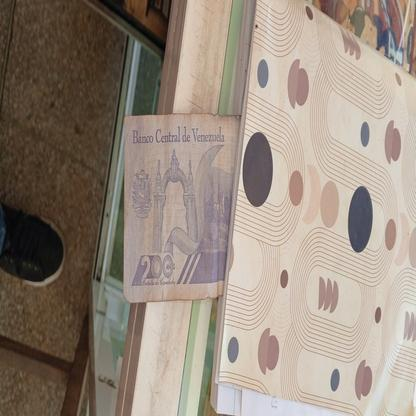ten-back-vef: (123, 110, 244, 302)
